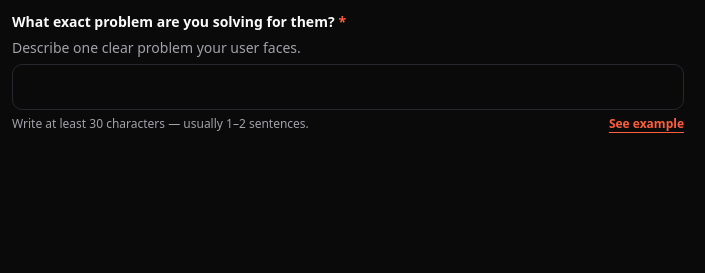
it: See example › closes again
This screenshot has width=705, height=273.
Click the button with test id "see-example-exactProblem" at [646, 124], box 609,116 -> 684,132
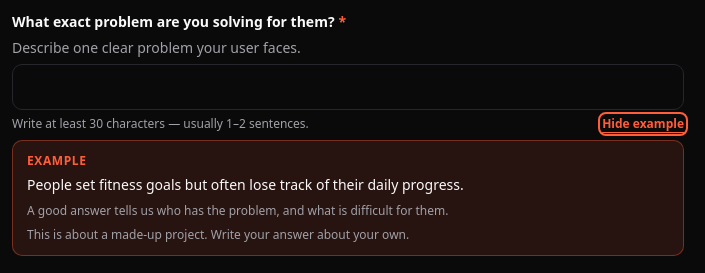
Click the button with test id "see-example-exactProblem" at [643, 124], box 602,116 -> 684,132
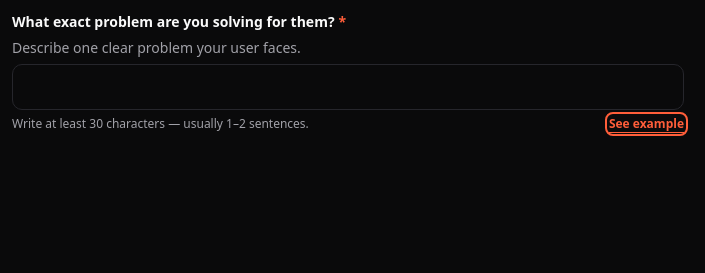
Expected: the element with test id "example-exactProblem" is gone
